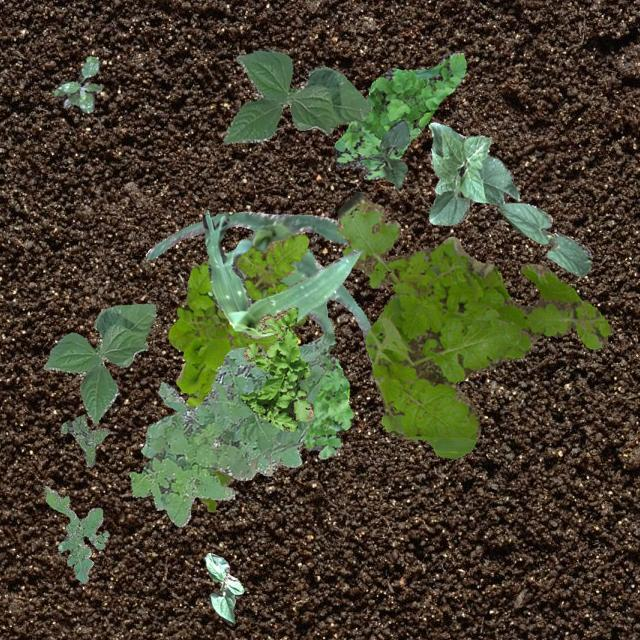crop: (144, 210, 370, 342), (202, 213, 361, 337), (41, 302, 156, 422), (222, 49, 370, 142), (428, 122, 520, 225), (496, 202, 590, 276), (202, 552, 242, 624), (366, 118, 408, 186)
weed: (336, 190, 614, 458), (128, 332, 334, 526), (332, 51, 466, 178), (176, 232, 308, 352), (238, 306, 312, 430), (44, 484, 108, 582), (168, 316, 234, 406), (302, 352, 354, 458), (52, 55, 100, 112), (58, 414, 108, 466), (198, 468, 232, 511)
